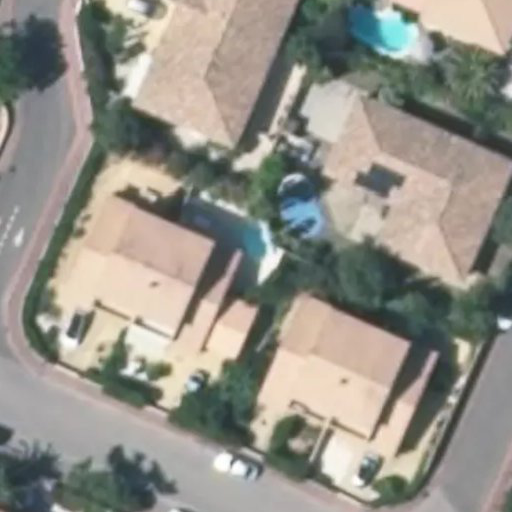pool: (234, 227, 279, 250)
